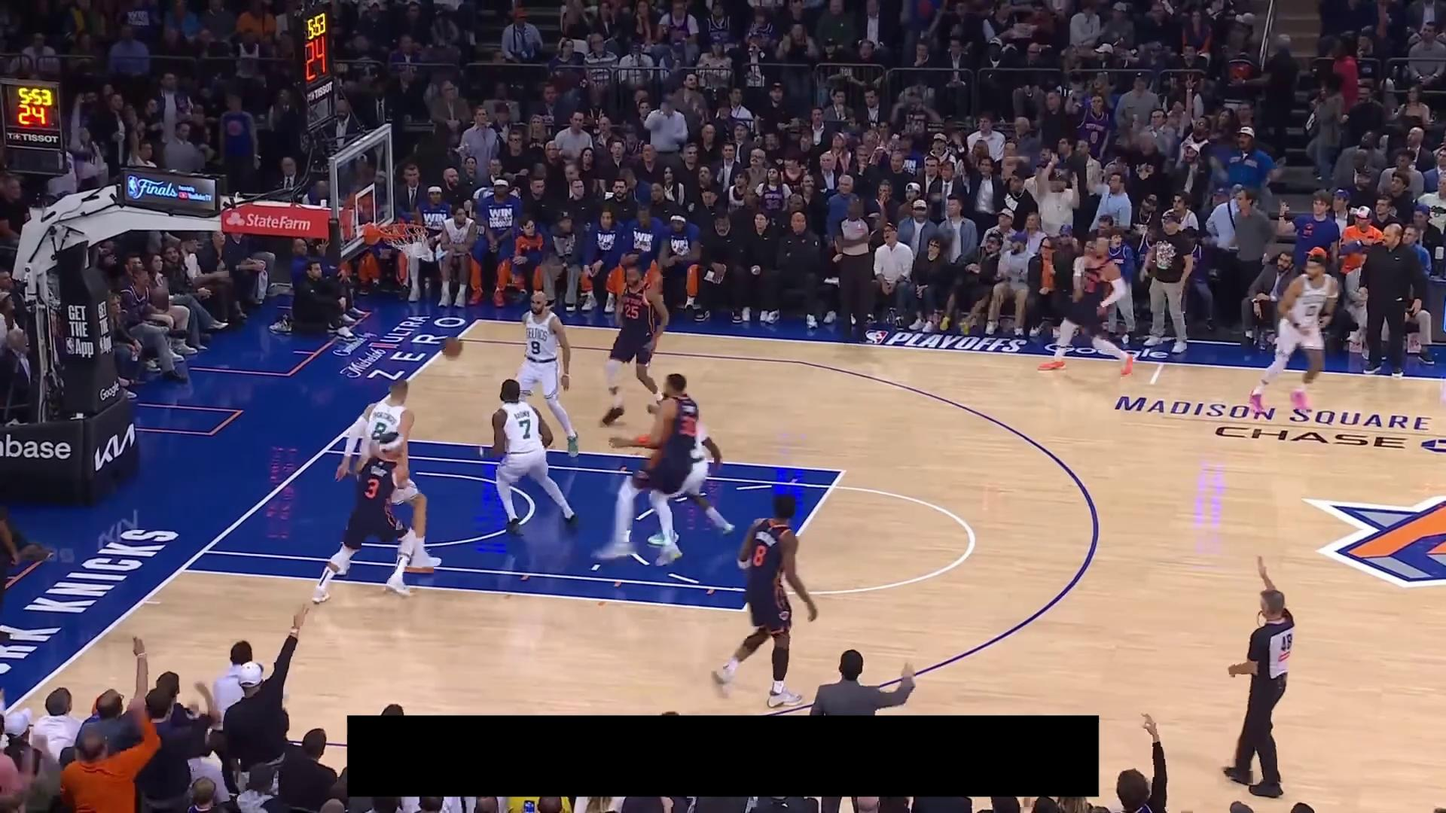ball: (442, 336, 463, 358)
number: (752, 544, 767, 568), (365, 477, 380, 499), (519, 419, 532, 440), (623, 303, 639, 320), (1304, 303, 1318, 318), (529, 339, 541, 356)
player: (709, 491, 820, 709), (335, 378, 442, 575), (593, 373, 699, 566), (311, 431, 417, 605), (479, 377, 581, 540), (1247, 253, 1339, 418), (1037, 234, 1135, 377), (508, 288, 581, 459), (599, 257, 670, 428), (648, 420, 737, 550)
referee: (1220, 553, 1296, 799), (832, 195, 887, 342), (0, 467, 20, 650)
rim: (379, 223, 428, 239)
